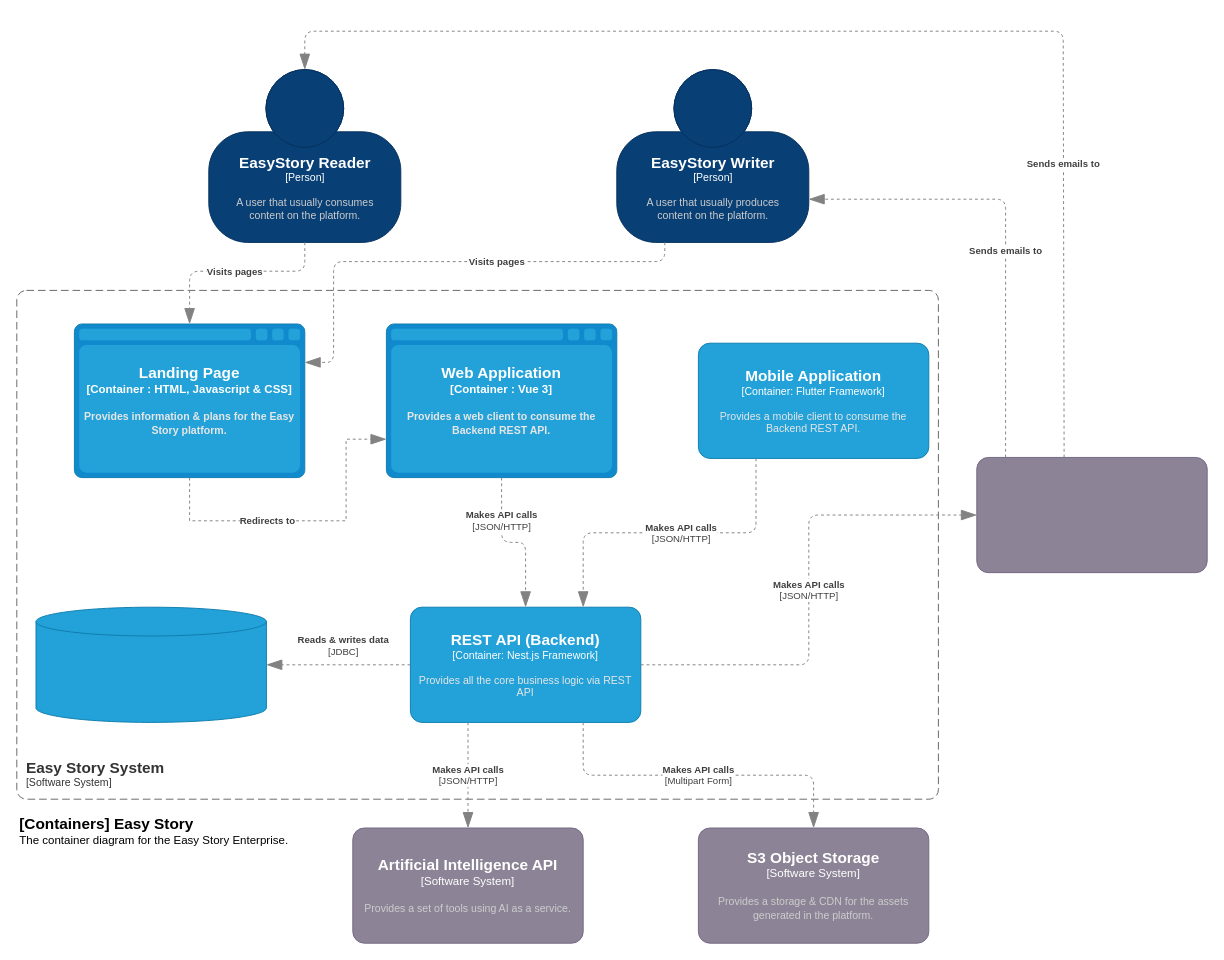
This 1224x960 diagram has some shape labels left out. The shapes that lost their labels are listed below. From the top down, each one's centre as x and y in pixels, then its label:
At point (1091, 514): "Mail Provider [Software System] Allows the system to send emails to the users".
At point (150, 664): "Database [Container : PostgreSQL 14] Relational Database to store user data.".
